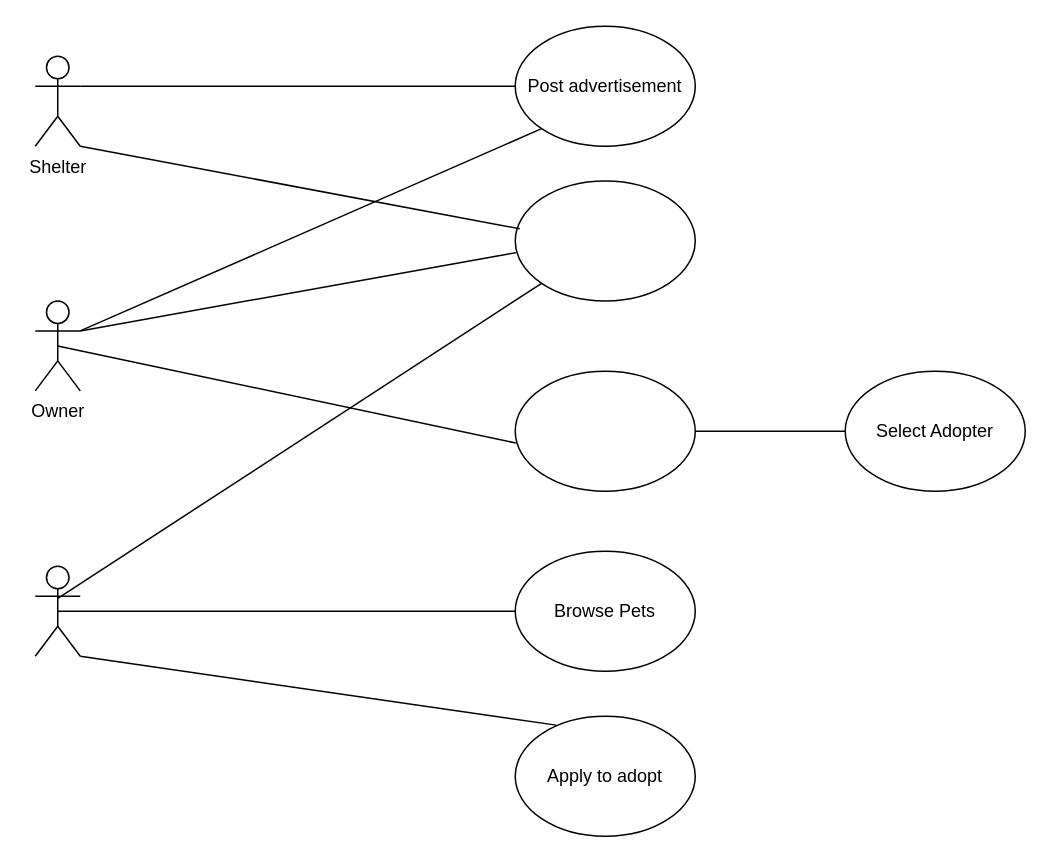
Image size: 1052x863. Some labels were removed from this diagram. Here are the shapes that lost their labels. From the top down, the centre of each, then its label:
At point (604, 240): "Login".
At point (604, 430): "View Candidate List".
At point (57, 610): "Adopter".
